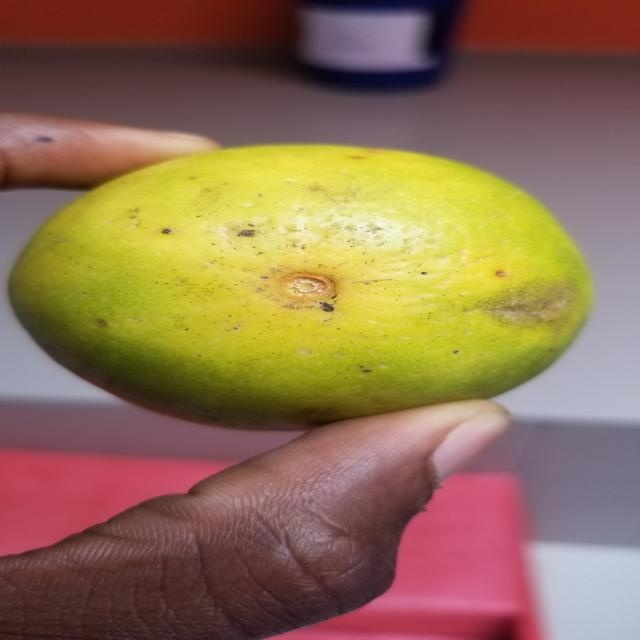agrume: (13, 136, 607, 436)
